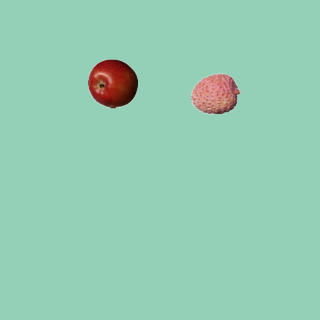Apple Braeburn: (87, 58, 137, 108)
Lychee: (190, 68, 240, 118)
